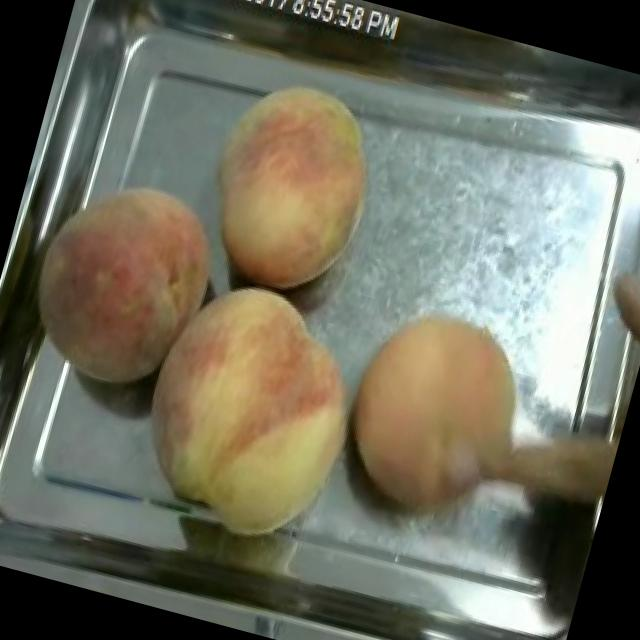Fruit: (111, 256, 392, 563), (0, 149, 248, 414), (320, 286, 550, 537), (179, 53, 402, 311)
